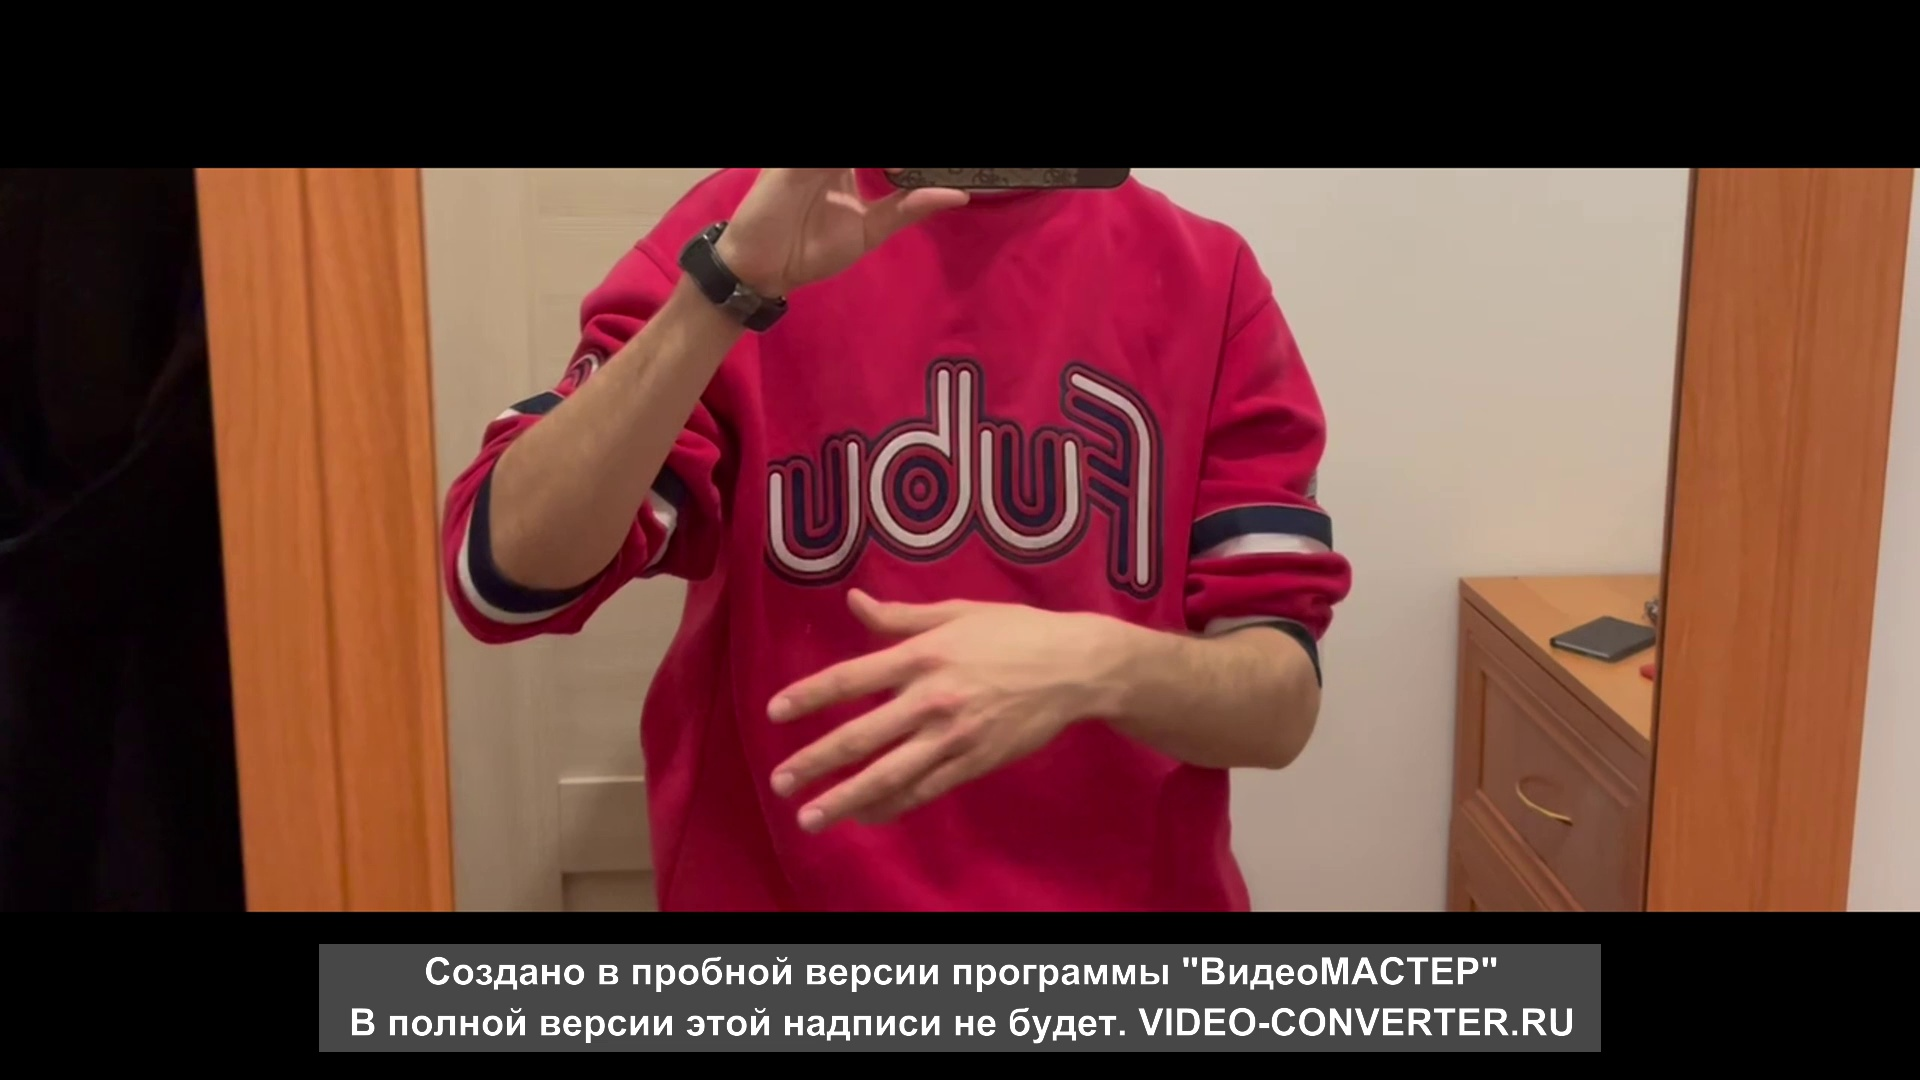Кисть: (766, 587, 1096, 831)
